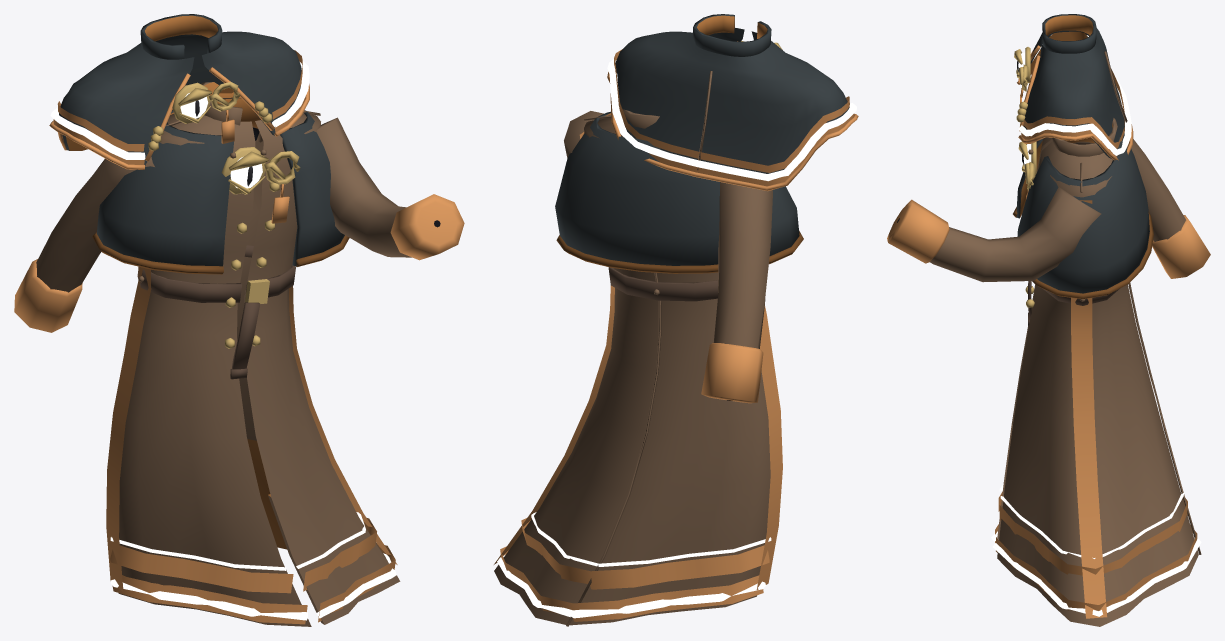
The model's file is coat-pilots-coat.glb.
3 views of the same model, side by side, from view 1: azimuth 30°, elevation 25°; view 2: azimuth 150°, elevation 25°; view 3: azimuth 270°, elevation 25° (orthographic). The views are drawn at different scales.
Visible parts, largest first — view 1: coat-pilots-coat, coat-pilots-coat_worn, sway_belt; view 2: coat-pilots-coat, coat-pilots-coat_worn; view 3: coat-pilots-coat, coat-pilots-coat_worn.
Boxes of the visible parts, x1,y1,x2,y2 form: coat-pilots-coat: [14, 82, 464, 626]; coat-pilots-coat_worn: [49, 14, 309, 169]; sway_belt: [230, 302, 260, 379]; coat-pilots-coat: [494, 109, 803, 626]; coat-pilots-coat_worn: [607, 14, 858, 191]; coat-pilots-coat: [887, 118, 1210, 626]; coat-pilots-coat_worn: [1014, 14, 1133, 160].
Bounding box in the file's own units: 1.27 × 2.1 × 1.22.
